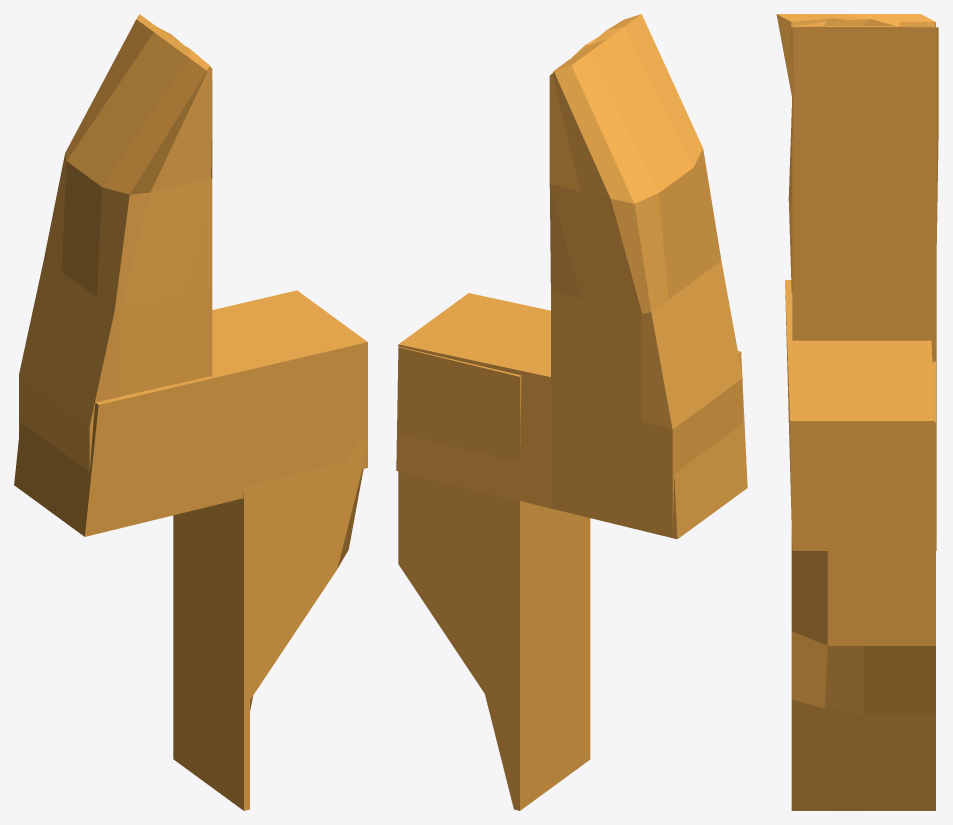
File: Lightning.fbx
The picture shows the model from 3 angles, left to right: view 1: azimuth 30°, elevation 25°; view 2: azimuth 150°, elevation 25°; view 3: azimuth 270°, elevation 25°; orthographic projection. The views are drawn at different scales.
Parts seen in each view (by area): view 1: Cube.002; view 2: Cube.002; view 3: Cube.002.
Boxes of the visible parts, bbox=[...] form: Cube.002: bbox=[14, 14, 367, 810]; Cube.002: bbox=[396, 14, 747, 810]; Cube.002: bbox=[776, 14, 938, 810].
Bounding box in the file's own units: 462 × 1180 × 224.
